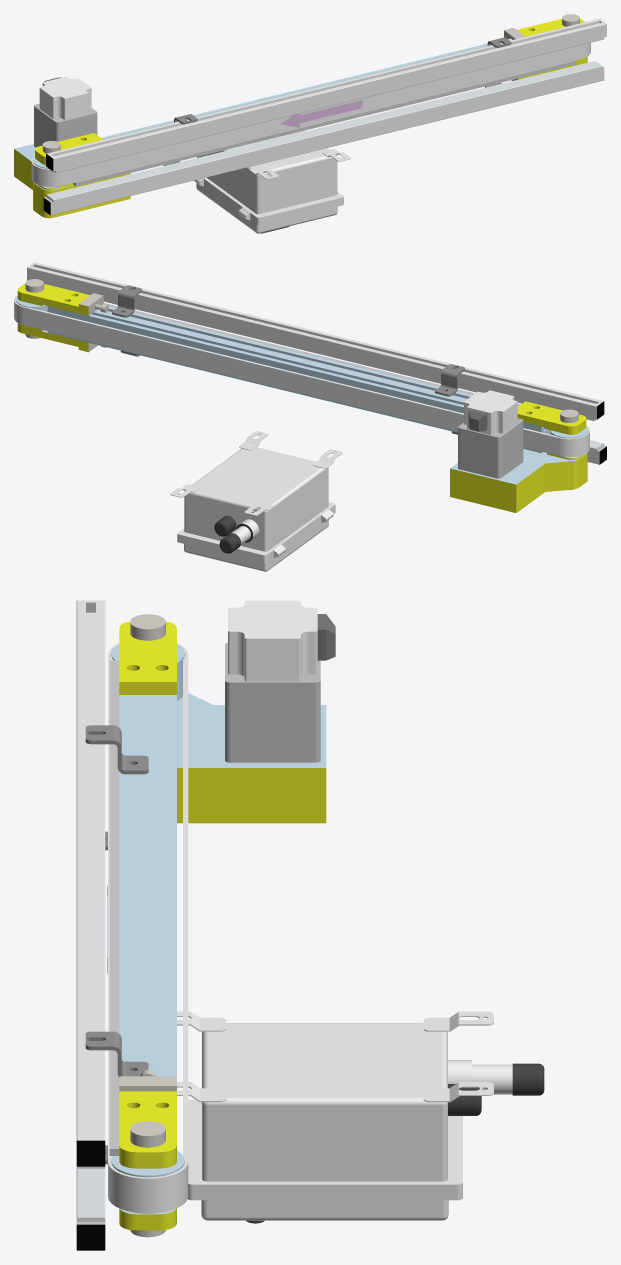
The model's file is 48s TB SL Stnd Belts.gltf.
3 views of the same model, one above another, from view 1: azimuth 30°, elevation 25°; view 2: azimuth 150°, elevation 25°; view 3: azimuth 270°, elevation 25° (orthographic). The views are drawn at different scales.
Visible parts, largest first — view 1: Profile Side Rail (×2), E1470 ZD Control Box Assembly: Variable Speed, 120w, Timing Belt, ZD 90mm HL, Wear Strip, Profile, JTB-0001 Idle End Assembly: Timing Belt, 48s Conveyor, 48mm , JTB-0110 End Drive Assembly: Timing Belt, 48s Conveyor, 48mm, Direction Arrow; view 2: E1470 ZD Control Box Assembly: Variable Speed, 120w, Profile Side Rail, Timing Belt, ZD 90mm HL, Profile, JTB-0001 Idle End Assembly: Timing Belt, 48s Conveyor, 48mm , JTB-0110 End Drive Assembly: Timing Belt, 48s Conveyor, 48mm, Fixed Side Brkts (×2), Wear Strip; view 3: E1470 ZD Control Box Assembly: Variable Speed, 120w, ZD 90mm HL, Profile, Profile Side Rail (×2), JTB-0001 Idle End Assembly: Timing Belt, 48s Conveyor, 48mm , Timing Belt, Wear Strip, JTB-0110 End Drive Assembly: Timing Belt, 48s Conveyor, 48mm, Fixed Side Brkts (×2).
Boxes of the visible parts, x1,y1,x2,y2 form: Profile Side Rail (×2): (43, 18, 606, 215); E1470 ZD Control Box Assembly: Variable Speed, 120w: (193, 97, 350, 233); Timing Belt: (31, 42, 590, 186); ZD 90mm HL: (14, 76, 130, 218); Wear Strip: (73, 60, 576, 186); Profile: (101, 43, 487, 139); JTB-0001 Idle End Assembly: Timing Belt, 48s Conveyor, 48mm : (504, 14, 587, 80); JTB-0110 End Drive Assembly: Timing Belt, 48s Conveyor, 48mm: (33, 133, 103, 189); Direction Arrow: (280, 100, 362, 127); E1470 ZD Control Box Assembly: Variable Speed, 120w: (170, 431, 342, 571); Profile Side Rail: (27, 262, 604, 421); Timing Belt: (14, 295, 589, 456); ZD 90mm HL: (450, 390, 587, 512); Profile: (47, 306, 550, 453); JTB-0001 Idle End Assembly: Timing Belt, 48s Conveyor, 48mm : (15, 279, 108, 352); JTB-0110 End Drive Assembly: Timing Belt, 48s Conveyor, 48mm: (517, 401, 588, 459); Fixed Side Brkts (×2): (112, 285, 464, 396); Wear Strip: (103, 303, 520, 406); E1470 ZD Control Box Assembly: Variable Speed, 120w: (177, 1011, 544, 1223); ZD 90mm HL: (177, 600, 335, 823); Profile: (119, 695, 176, 1076); Profile Side Rail (×2): (76, 600, 105, 1250); JTB-0001 Idle End Assembly: Timing Belt, 48s Conveyor, 48mm : (111, 1069, 184, 1237); Timing Belt: (108, 643, 188, 1213); Wear Strip: (109, 660, 119, 1155); JTB-0110 End Drive Assembly: Timing Belt, 48s Conveyor, 48mm: (111, 614, 184, 700); Fixed Side Brkts (×2): (85, 725, 148, 1077).
Size of the model in its own units: 1.07 by 0.3384 by 0.39.
